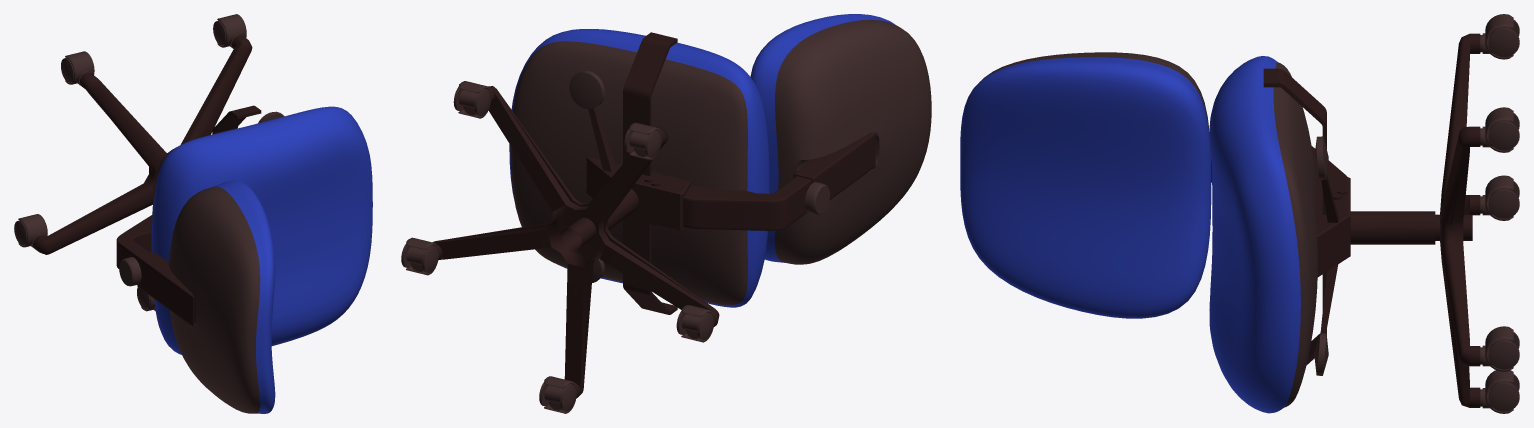
Rendered from chair.dae.
3 renders of one model, left to right at view 1: azimuth 30°, elevation 25°; view 2: azimuth 150°, elevation 25°; view 3: azimuth 270°, elevation 25°, orthographic. The views are drawn at different scales.
Parts seen in each view (by area): view 1: Node_0x55fb9827fbe0, Node_0x55fb9827dba0, Node_0x55fb9827e960, Node_0x55fb9827d700, Node_0x55fb9827e040, Node_0x55fb98280080, Node_0x55fb9827ee00, Node_0x55fb9827f2a0; view 2: Node_0x55fb9827f740, Node_0x55fb9827dba0, Node_0x55fb9827e960, Node_0x55fb9827f2a0, Node_0x55fb9827e040, Node_0x55fb9827fbe0, Node_0x55fb98280080, Node_0x55fb9827d700, Node_0x55fb9827ee00; view 3: Node_0x55fb9827d700, Node_0x55fb9827fbe0, Node_0x55fb9827f2a0, Node_0x55fb9827e960, Node_0x55fb98280080, Node_0x55fb9827f740, Node_0x55fb9827dba0, Node_0x55fb9827ee00.
Boxes of the visible parts, bbox=[...] form: Node_0x55fb9827fbe0: bbox=[151, 106, 372, 354]; Node_0x55fb9827dba0: bbox=[168, 186, 260, 413]; Node_0x55fb9827e960: bbox=[33, 35, 252, 254]; Node_0x55fb9827d700: bbox=[213, 180, 275, 413]; Node_0x55fb9827e040: bbox=[116, 215, 195, 327]; Node_0x55fb98280080: bbox=[14, 14, 246, 311]; Node_0x55fb9827ee00: bbox=[119, 111, 284, 286]; Node_0x55fb9827f2a0: bbox=[212, 105, 261, 134]; Node_0x55fb9827f740: bbox=[510, 41, 747, 305]; Node_0x55fb9827dba0: bbox=[775, 19, 931, 264]; Node_0x55fb9827e960: bbox=[432, 86, 719, 398]; Node_0x55fb9827f2a0: bbox=[561, 32, 691, 314]; Node_0x55fb9827e040: bbox=[683, 132, 875, 230]; Node_0x55fb9827fbe0: bbox=[509, 29, 769, 307]; Node_0x55fb98280080: bbox=[401, 81, 714, 413]; Node_0x55fb9827d700: bbox=[750, 14, 895, 262]; Node_0x55fb9827ee00: bbox=[569, 70, 829, 282]; Node_0x55fb9827d700: bbox=[960, 57, 1211, 318]; Node_0x55fb9827fbe0: bbox=[1209, 56, 1300, 413]; Node_0x55fb9827f2a0: bbox=[1263, 68, 1472, 365]; Node_0x55fb9827e960: bbox=[1440, 33, 1480, 407]; Node_0x55fb98280080: bbox=[1480, 14, 1519, 413]; Node_0x55fb9827f740: bbox=[1273, 62, 1317, 407]; Node_0x55fb9827dba0: bbox=[982, 52, 1209, 135]; Node_0x55fb9827ee00: bbox=[1314, 136, 1328, 375].
Bounding box in the file's own units: 0.643 × 0.6138 × 0.91.
